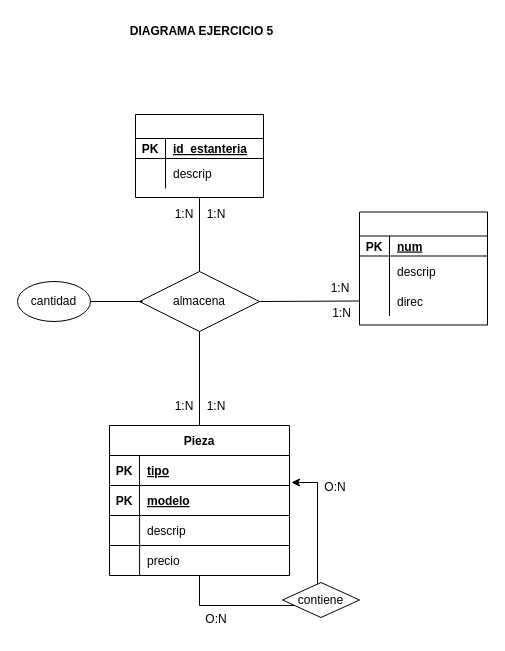
Some shapes in this 505 by 651 pixel diagram are drawn without their labels. Each missing label, with the box of its shape:
Almacen: (358, 211, 488, 325)
Estantería: (134, 114, 264, 198)
